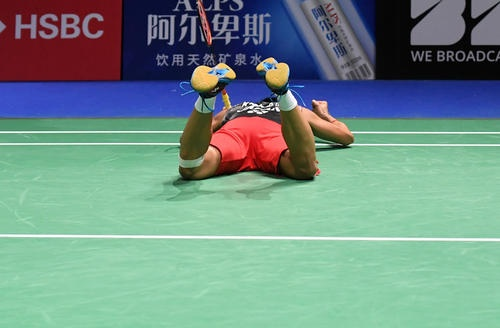falling: (157, 48, 359, 185)
